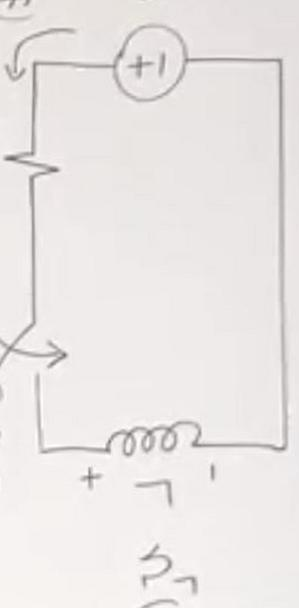Battery: (94, 14, 199, 121)
